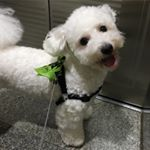puppy: (41, 1, 127, 150)
